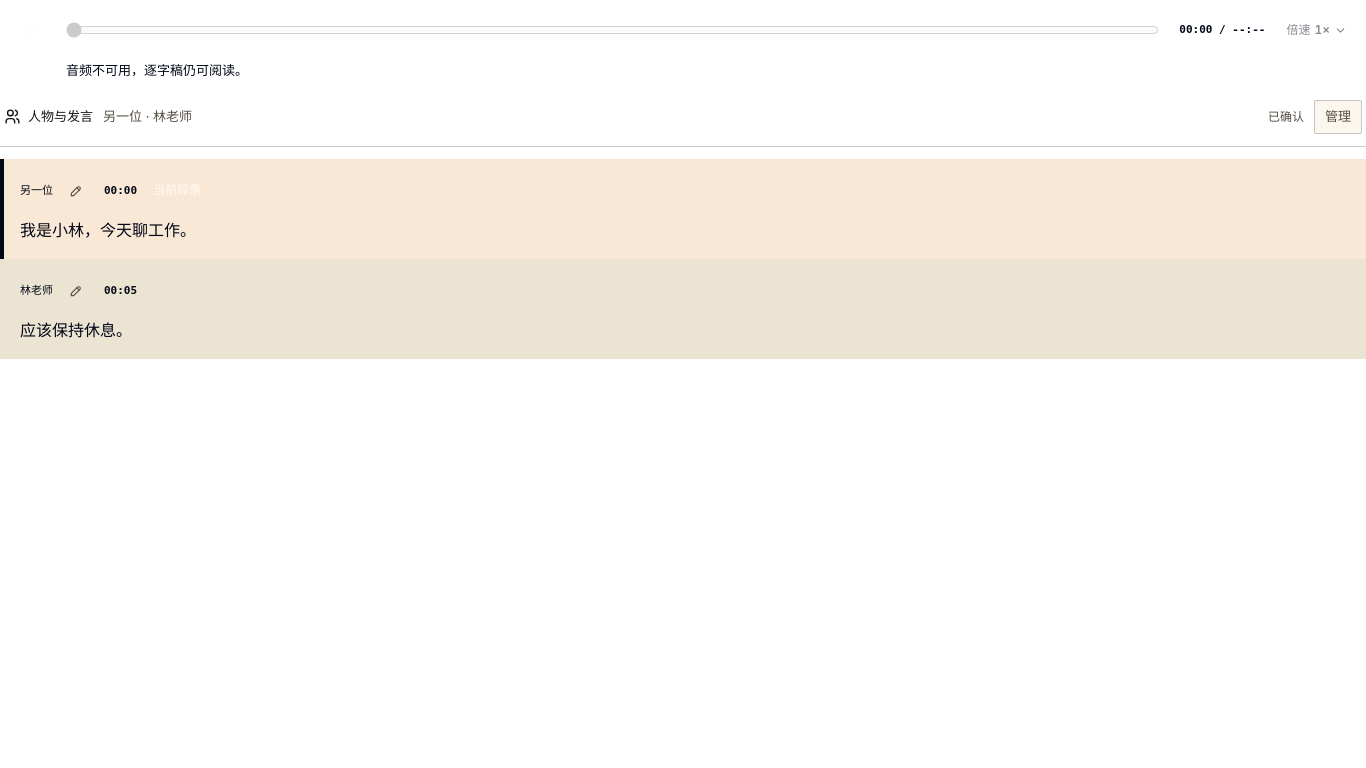
Test: 逐字稿人物确认 › distinguishes an old applied record from a later manual correction
What coordinates should you click on to do the following:
click the button "管理"
I would click on:
 (1338, 117)
Its box is x1=1314 y1=100 x2=1362 y2=134.
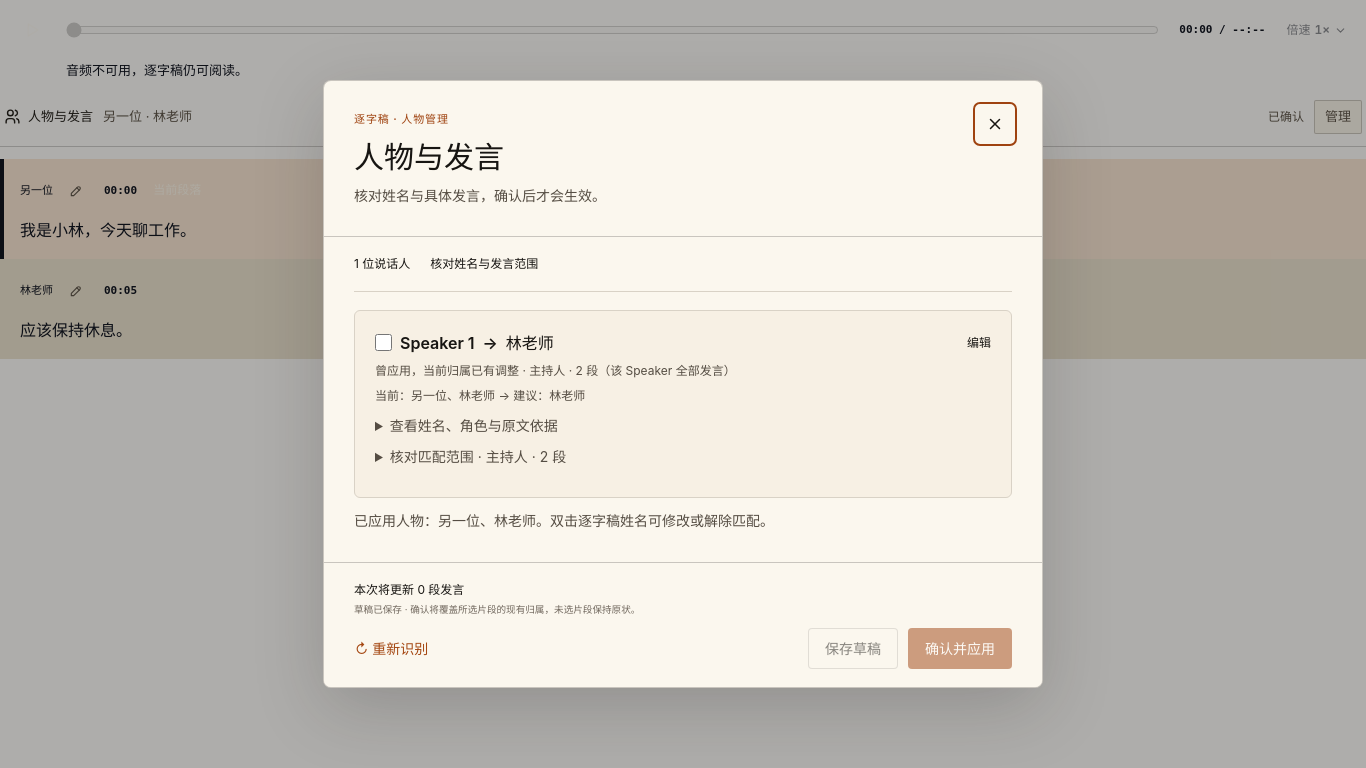
Result: the text "曾应用，当前归属已有调整 · 主持人 · 2 段（该 Speaker 全部发言）" is shown at x1=375 y1=363 x2=736 y2=378
Result: the text "当前：另一位、林老师 → 建议：林老师" is shown at x1=375 y1=388 x2=585 y2=403
